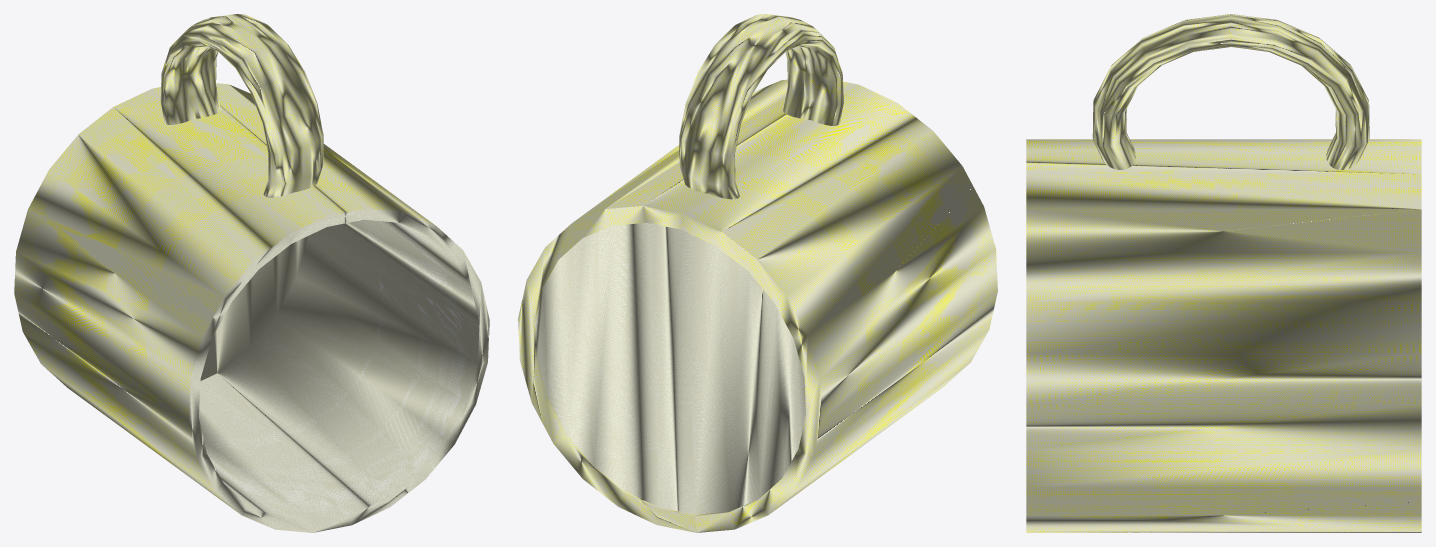
Rendered from model_align.obj.
3 renders of one model, left to right at view 1: azimuth 30°, elevation 25°; view 2: azimuth 150°, elevation 25°; view 3: azimuth 270°, elevation 25°, orthographic. The views are drawn at different scales.
Bounding box in the file's own units: 0.0842 × 0.1166 × 0.0845.
